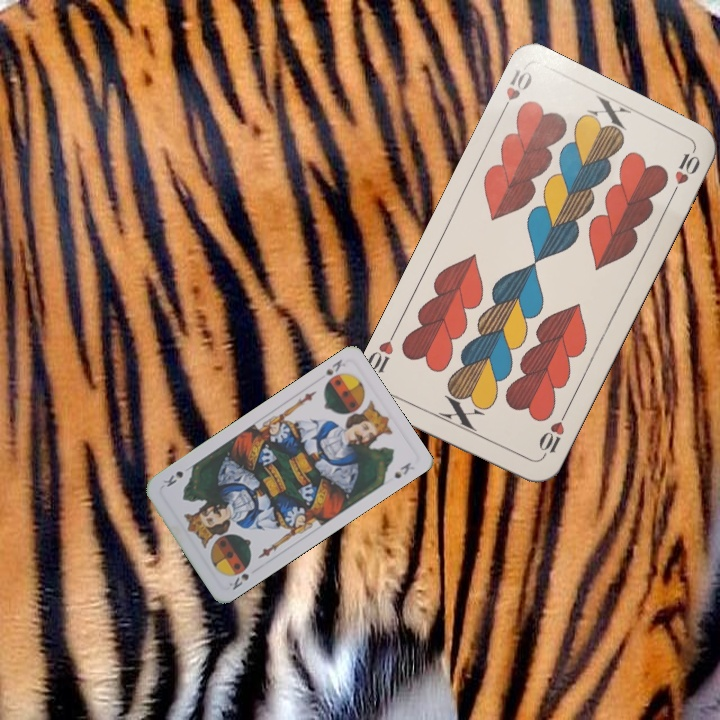H10: (496, 65, 535, 119), (534, 408, 570, 463)
SK: (225, 569, 252, 593), (322, 355, 348, 378)
